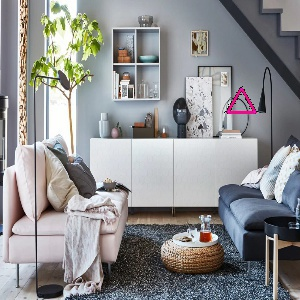triangle: (223, 86, 261, 116)
